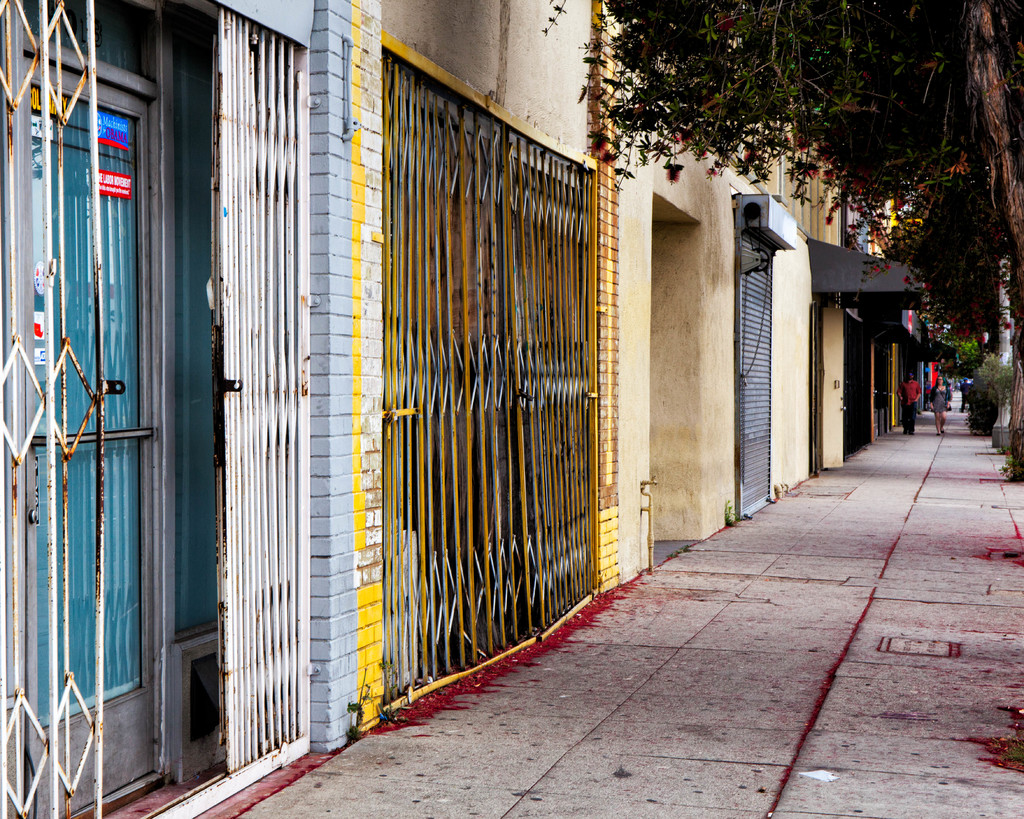Door: (17, 60, 157, 818)
